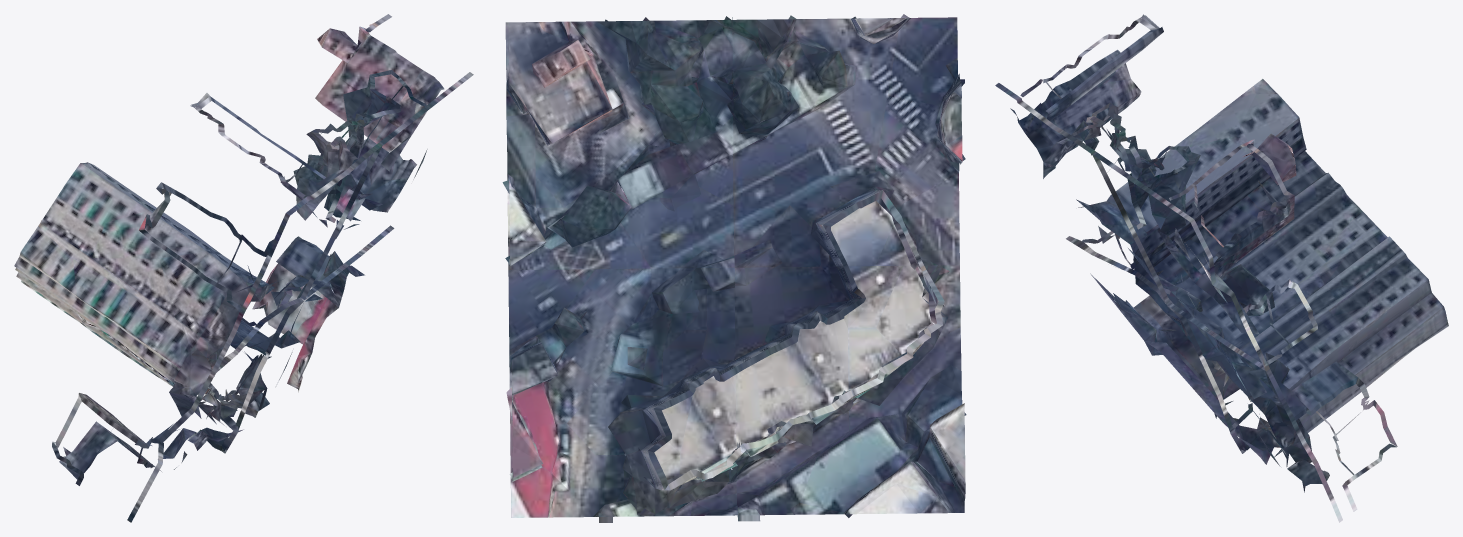
3 views of the same model, side by side, from view 1: azimuth 30°, elevation 25°; view 2: azimuth 150°, elevation 25°; view 3: azimuth 270°, elevation 25° (orthographic). The views are drawn at different scales.
Bounding box in the file's own units: 86.9 × 81.24 × 83.62.
2 materials, 2 textured.
